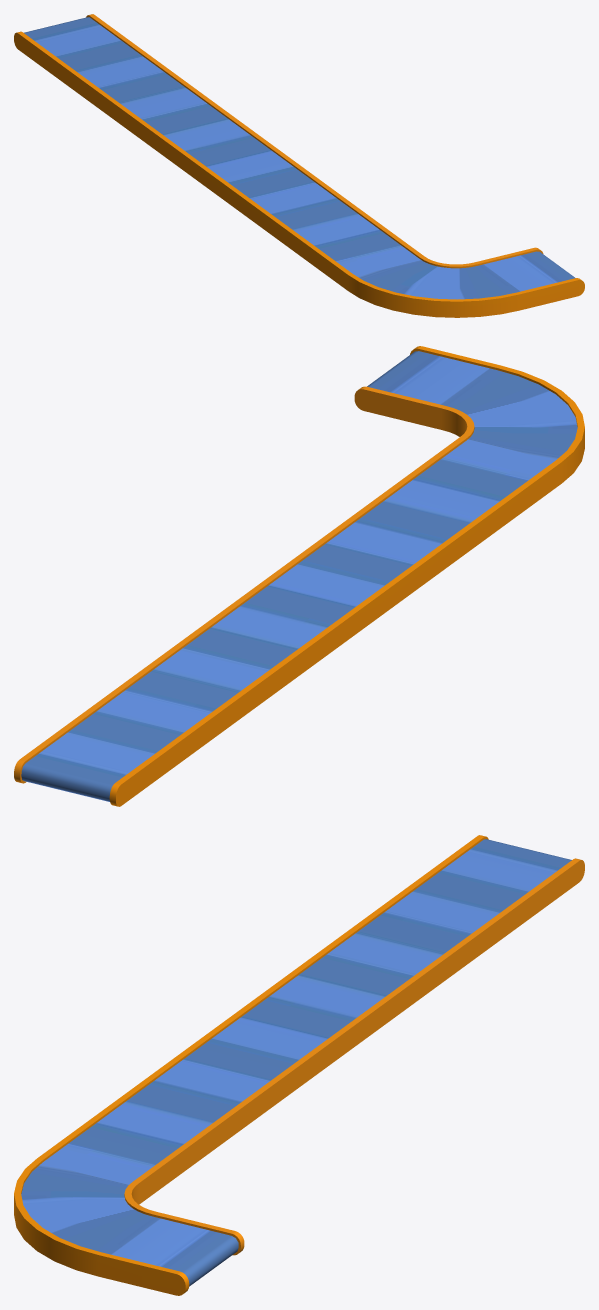
The model's file is conveyer1.fbx.
3 views of the same model, one above another, from view 1: azimuth 30°, elevation 25°; view 2: azimuth 150°, elevation 25°; view 3: azimuth 330°, elevation 25° (orthographic). The views are drawn at different scales.
Visible parts, largest first — view 1: conver; view 2: conver; view 3: conver.
Part boxes in pixels (x1,y1,x2,y2): conver: (14, 14, 584, 317); conver: (14, 346, 584, 806); conver: (14, 835, 584, 1295).
Size of the model in its own units: 125 by 11.11 by 494.
